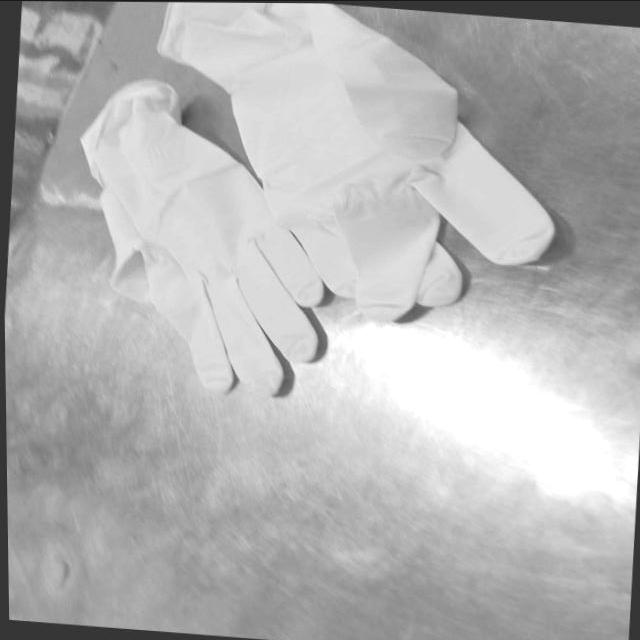General: (6, 2, 638, 637), (73, 2, 558, 399)
Infectious: (77, 77, 328, 396)
Sharps: (405, 116, 557, 267)
